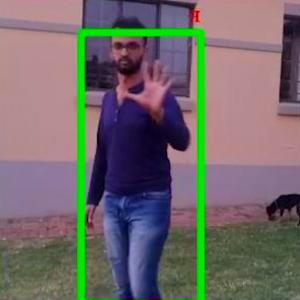follow_hand: (121, 53, 180, 123)
